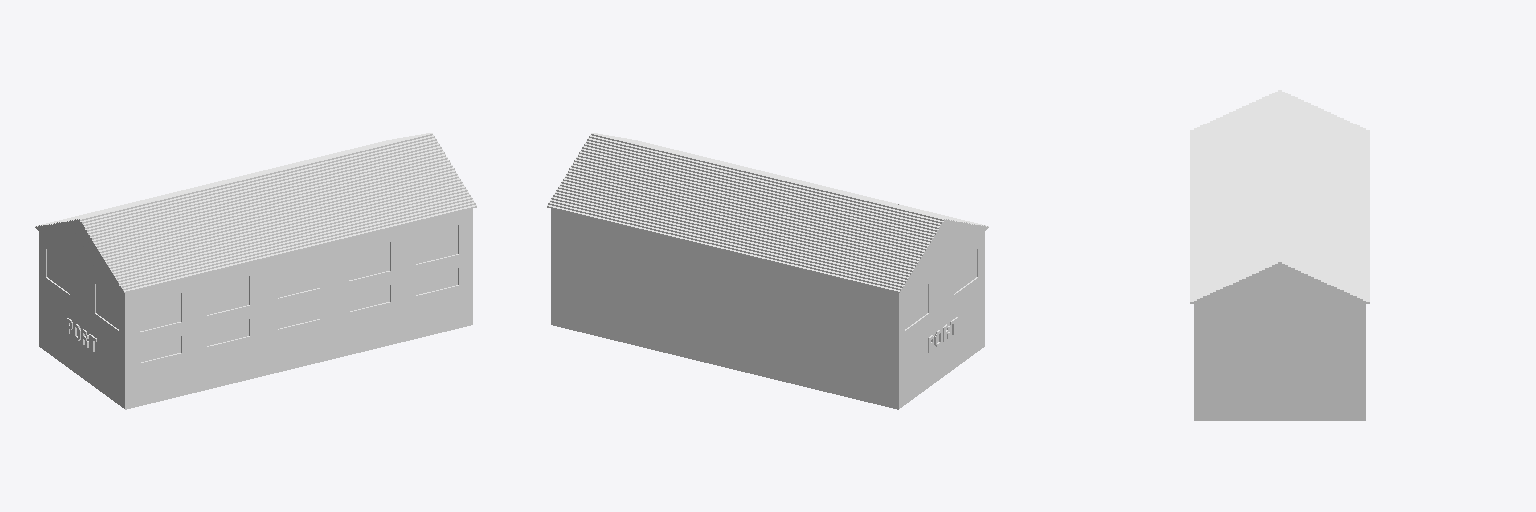
File: Port(2).obj
3 renders of one model, left to right at view 1: azimuth 30°, elevation 25°; view 2: azimuth 150°, elevation 25°; view 3: azimuth 270°, elevation 25°, orthographic.
Parts seen in each view (by area): view 1: object 1; view 2: object 1; view 3: object 1.
Boxes of the visible parts, x1=… form: object 1: x1=35, y1=133, x2=476, y2=409; object 1: x1=547, y1=133, x2=988, y2=409; object 1: x1=1190, y1=90, x2=1369, y2=420.
Bounding box in the file's own units: 25 × 10.8 × 11.